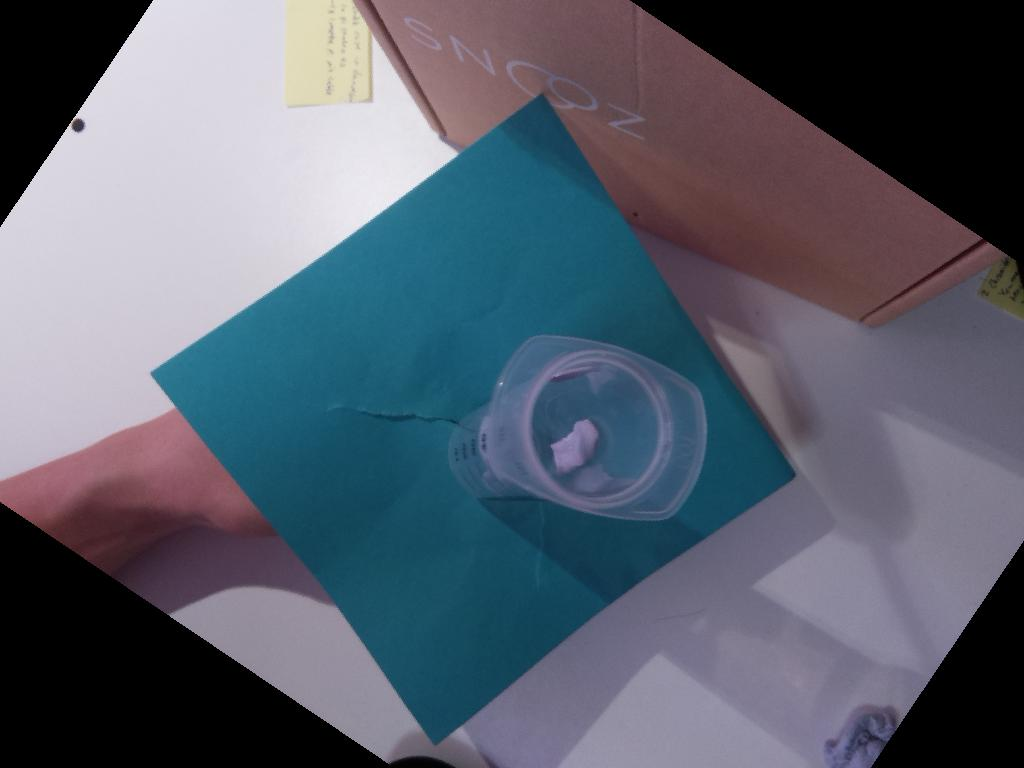dirty: (485, 332, 709, 520)
